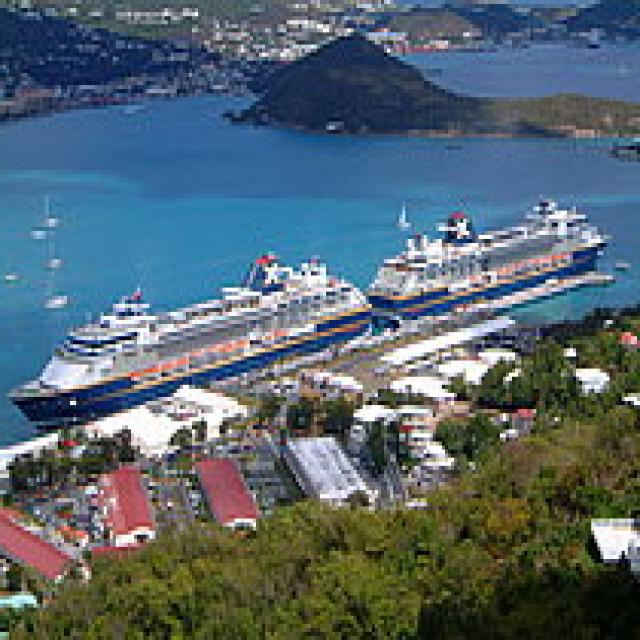Cruise: (9, 239, 378, 429), (366, 190, 612, 316)
